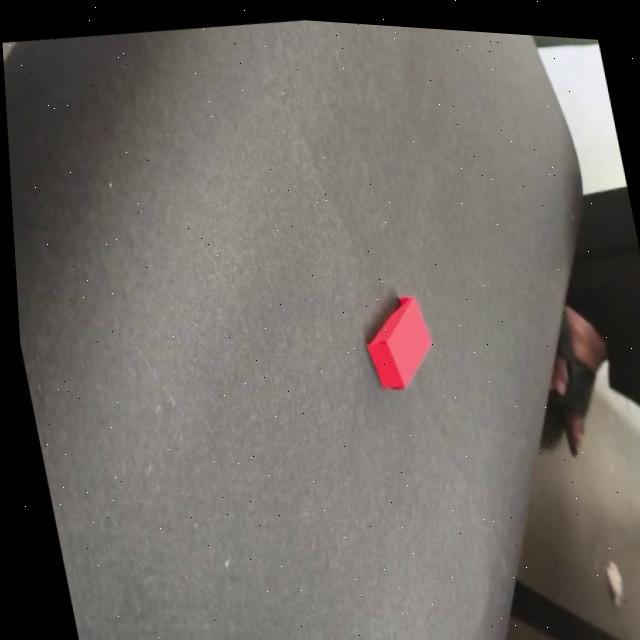red block: (356, 288, 443, 398)
